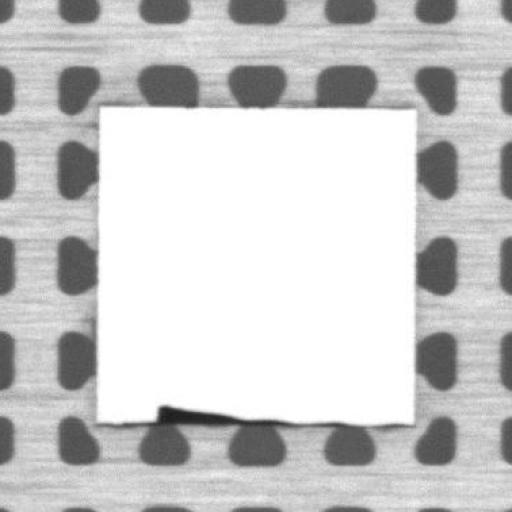DIE_INK: (154, 402, 358, 426)
